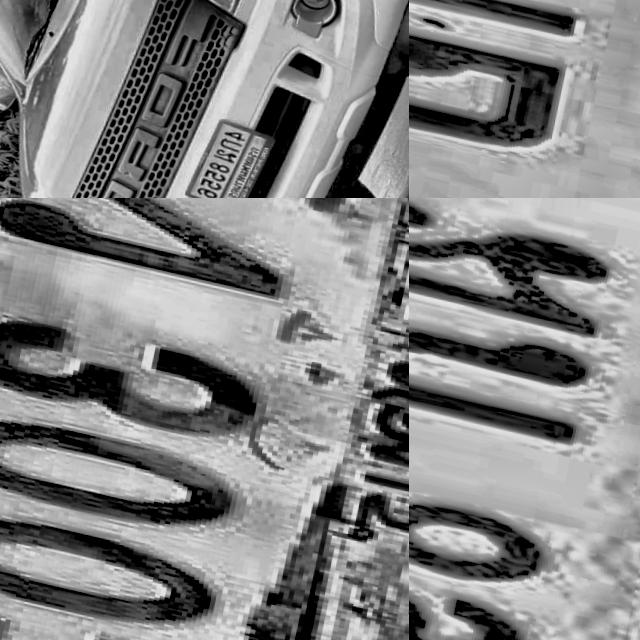license-plate: (0, 198, 409, 640), (409, 198, 640, 640), (409, 0, 640, 198), (188, 104, 286, 198)
